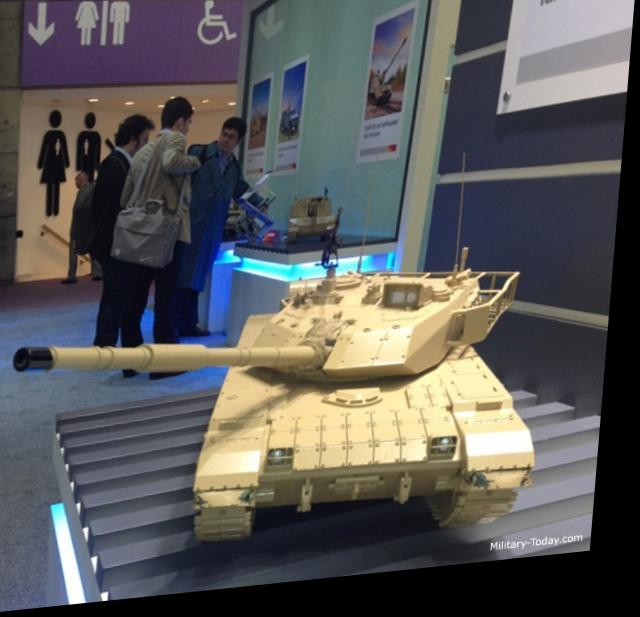tank: (180, 237, 565, 590)
